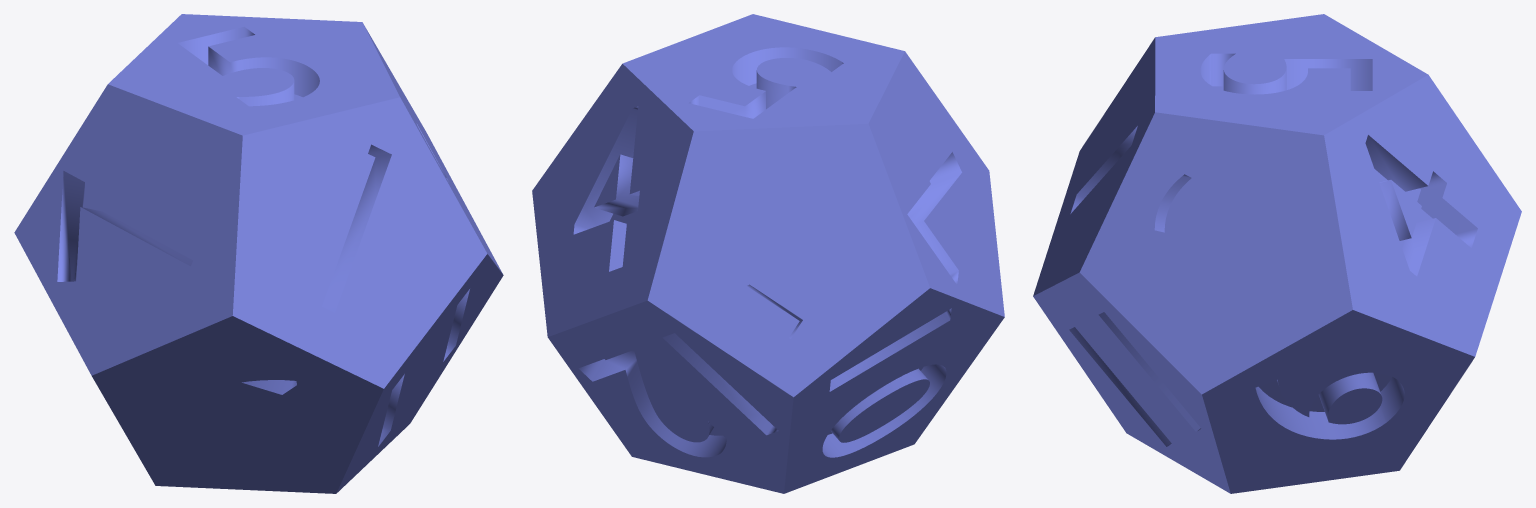
The picture shows the model from 3 angles, left to right: view 1: azimuth 30°, elevation 25°; view 2: azimuth 150°, elevation 25°; view 3: azimuth 270°, elevation 25°; orthographic projection. The views are drawn at different scales.
Visible parts, largest first — view 1: Solid; view 2: Solid; view 3: Solid.
Part boxes in pixels (x1,y1,x2,y2): Solid: (14, 14, 503, 493); Solid: (532, 14, 1004, 493); Solid: (1033, 14, 1521, 493).
Bounding box in the file's own units: 187 × 159 × 196.
